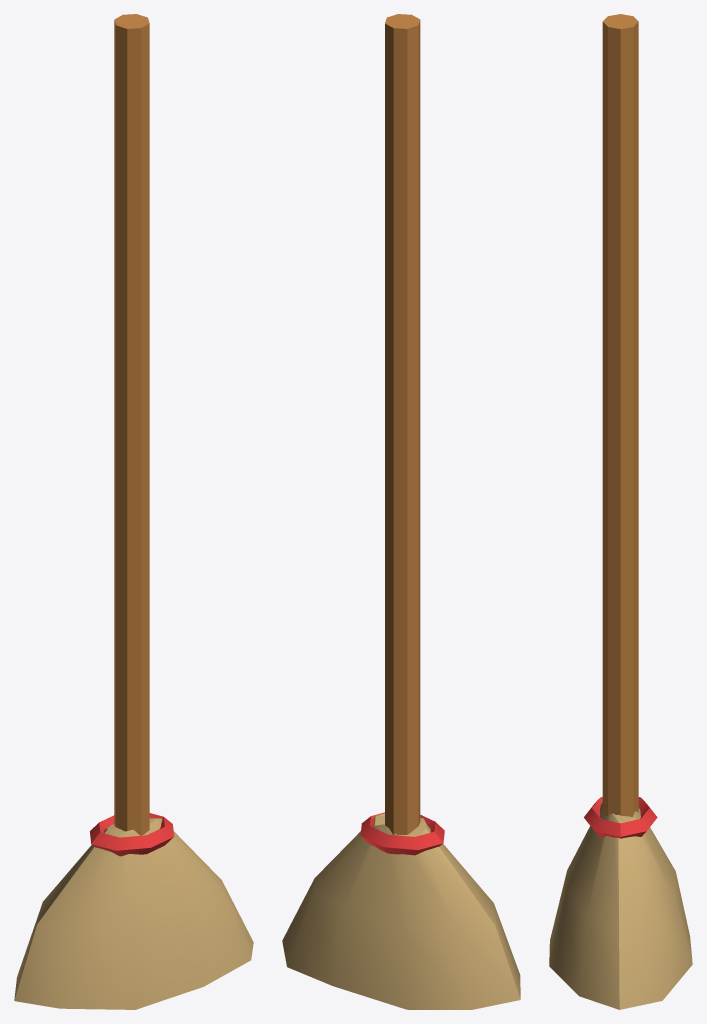
File: Broom.fbx
3 views of the same model, side by side, from view 1: azimuth 30°, elevation 25°; view 2: azimuth 150°, elevation 25°; view 3: azimuth 270°, elevation 25° (orthographic). The views are drawn at different scales.
Visible parts, largest first — view 1: Broom; view 2: Broom; view 3: Broom.
Boxes of the visible parts, <box> form: Broom: <box>14,14,253,1009</box>; Broom: <box>282,14,520,1009</box>; Broom: <box>549,14,692,1009</box>.
Bounding box in the file's own units: 1.05 × 4.02 × 0.5588.
1 material, 1 textured.
